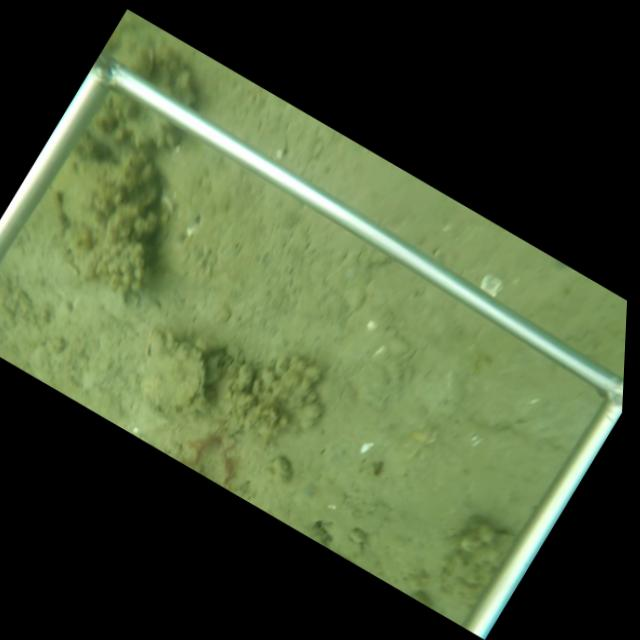Oyster-Indeterminate: (139, 326, 207, 419)
